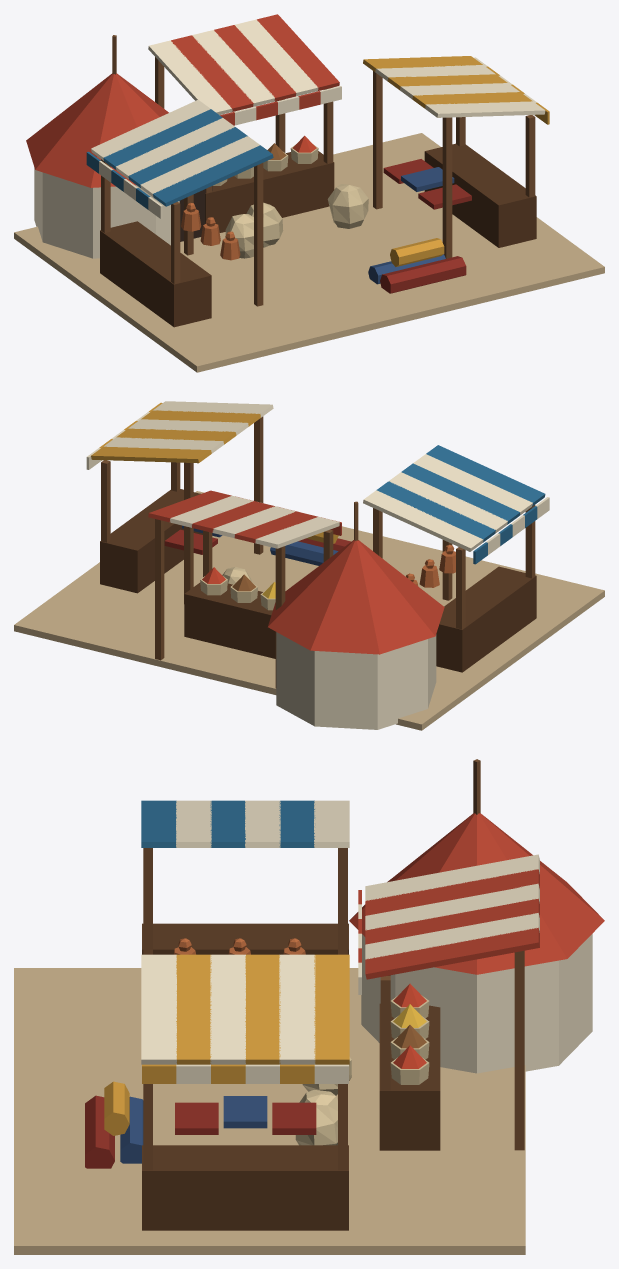
Rendered from bazaar.glb.
3 views of the same model, one above another, from view 1: azimuth 30°, elevation 25°; view 2: azimuth 150°, elevation 25°; view 3: azimuth 270°, elevation 25° (orthographic). The views are drawn at different scales.
Visible parts, largest first — view 1: bazaar; view 2: bazaar; view 3: bazaar.
Part boxes in pixels (x1,y1,x2,y2): bazaar: (14, 14, 604, 372); bazaar: (14, 401, 604, 730); bazaar: (14, 759, 604, 1254).
Bounding box in the file's own units: 5.4 × 2.5 × 4.85.
